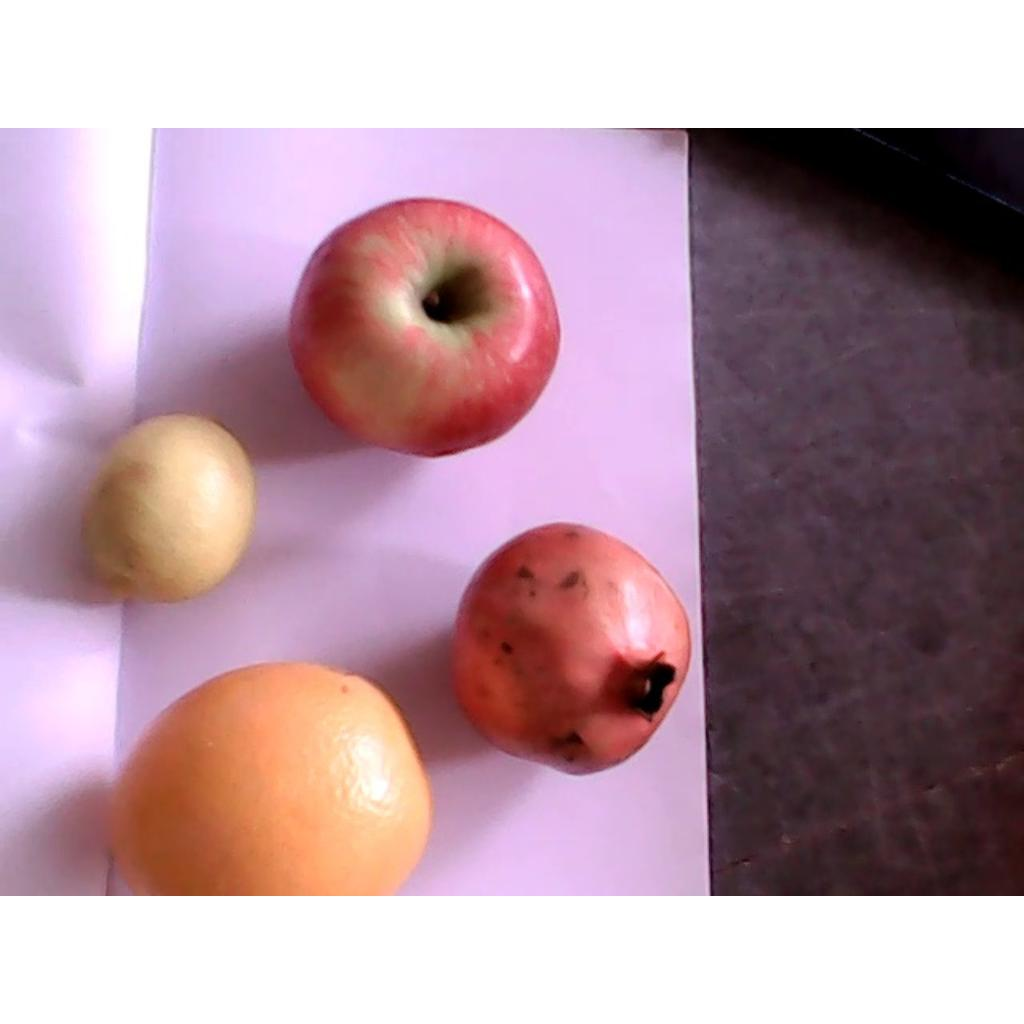apple: (285, 197, 560, 451)
lemon: (80, 413, 254, 602)
orange: (100, 661, 431, 894)
pomegranate: (446, 523, 691, 779)
